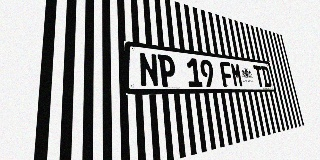1: (186, 57, 203, 87)
9: (199, 59, 215, 87)
D: (261, 66, 272, 87)
F: (219, 61, 234, 87)
M: (230, 62, 244, 87)
N: (138, 52, 159, 87)
P: (157, 54, 177, 87)
T: (253, 65, 265, 87)
